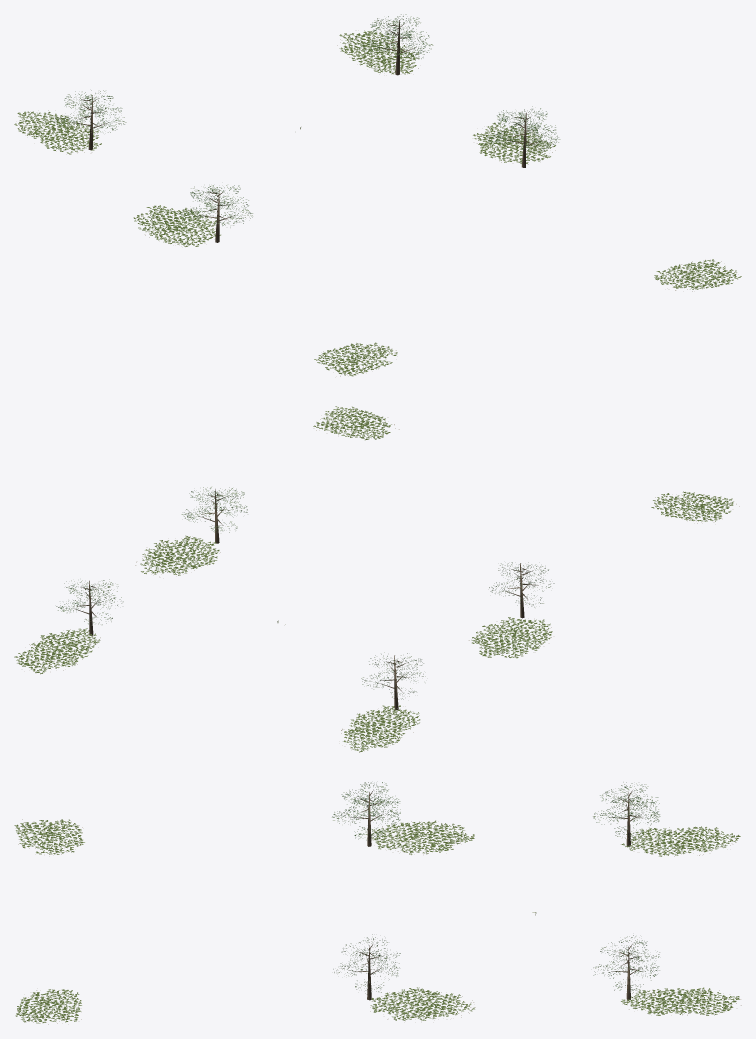
Rendered from daguanlou.glb.
3 renders of one model, top to bottom at view 1: azimuth 30°, elevation 25°; view 2: azimuth 150°, elevation 25°; view 3: azimuth 270°, elevation 25°, orthographic. The views are drawn at different scales.
Parts seen in each view (by area): view 1: Mobile_daguanlou_botanical_bamboo, Mobile_daguanlou_plants; view 2: Mobile_daguanlou_botanical_bamboo, Mobile_daguanlou_plants; view 3: Mobile_daguanlou_botanical_bamboo, Mobile_daguanlou_plants.
Part boxes in pixels (x1,y1,x2,y2): Mobile_daguanlou_botanical_bamboo: (14,31,741,376); Mobile_daguanlou_plants: (53,14,560,242); Mobile_daguanlou_botanical_bamboo: (14,406,733,752); Mobile_daguanlou_plants: (56,487,554,710); Mobile_daguanlou_botanical_bamboo: (14,819,740,1023); Mobile_daguanlou_plants: (332,782,660,1000).
Size of the model in its own units: 56.12 by 7.07 by 84.2.
4 materials, 3 textured.
